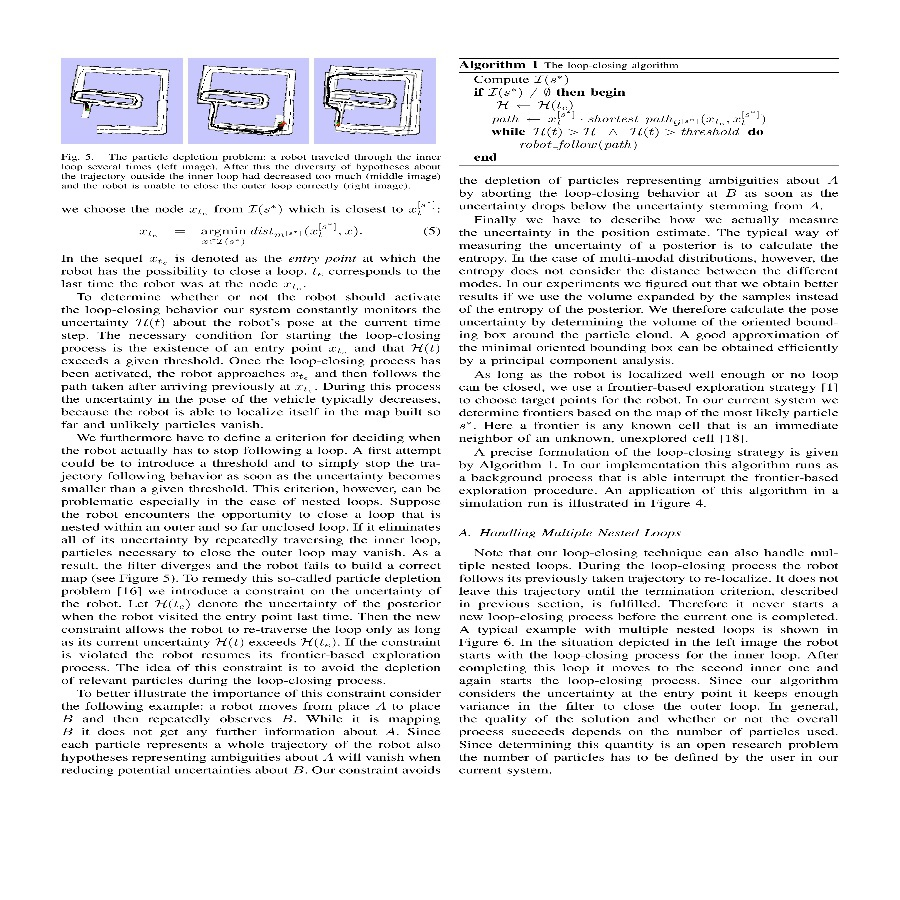eq: (138, 219, 359, 247)
